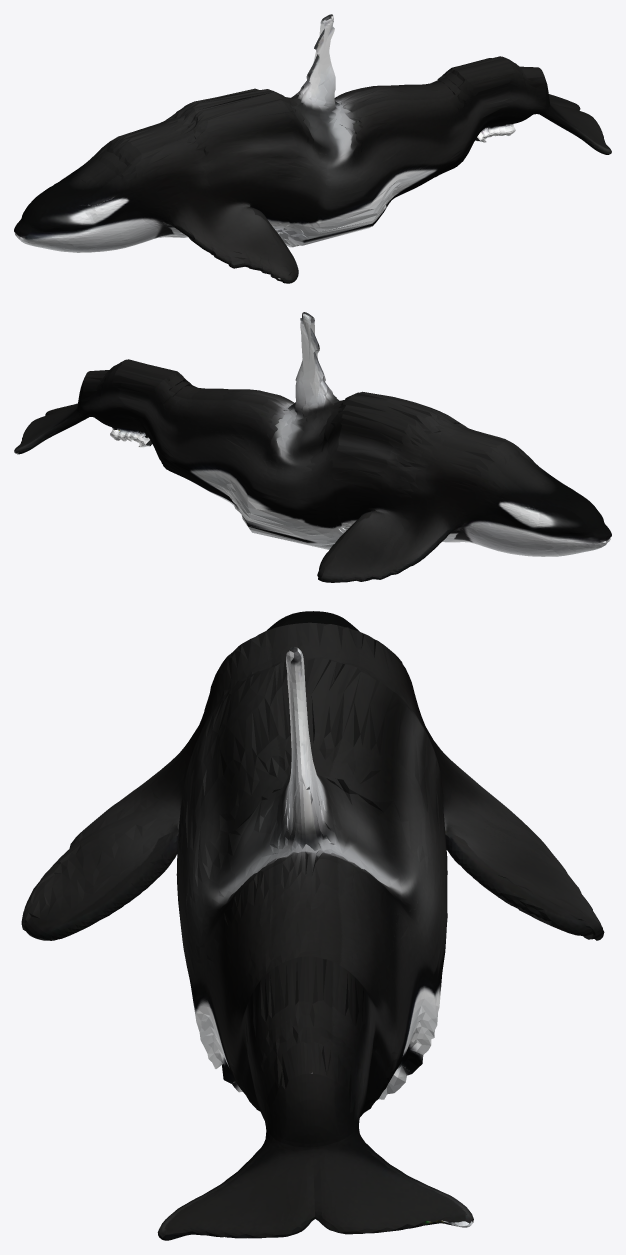
Rendered from 04_canonical_mesh.glb.
3 renders of one model, top to bottom at view 1: azimuth 30°, elevation 25°; view 2: azimuth 150°, elevation 25°; view 3: azimuth 270°, elevation 25°, orthographic. The views are drawn at different scales.
Parts seen in each view (by area): view 1: world; view 2: world; view 3: world.
Boxes of the visible parts, bbox=[...] form: world: bbox=[14, 14, 611, 283]; world: bbox=[14, 312, 611, 582]; world: bbox=[21, 611, 604, 1240].
Bounding box in the file's own units: 1.96 × 0.7223 × 0.8695.
Materials: 1 (1 with a texture image).
